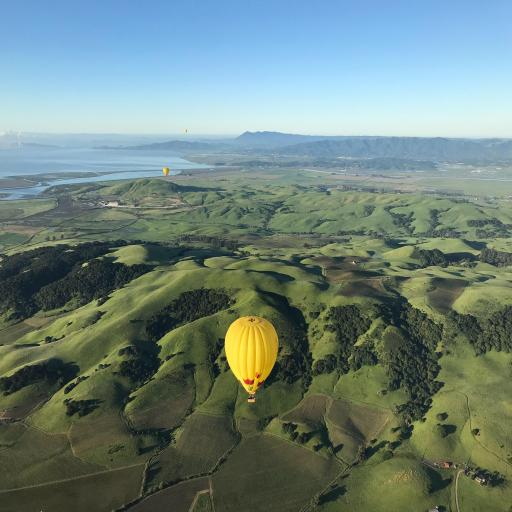hot air ballon: (225, 315, 279, 403), (163, 168, 169, 177), (185, 129, 187, 132)
